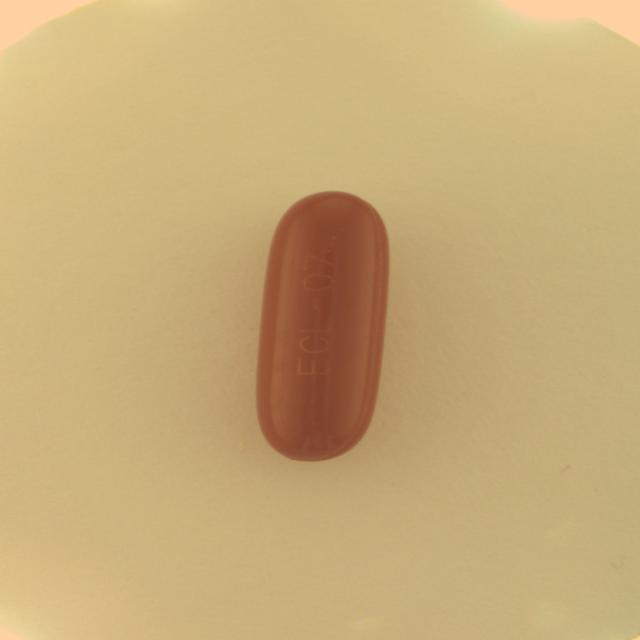Oval: (253, 187, 393, 465)
